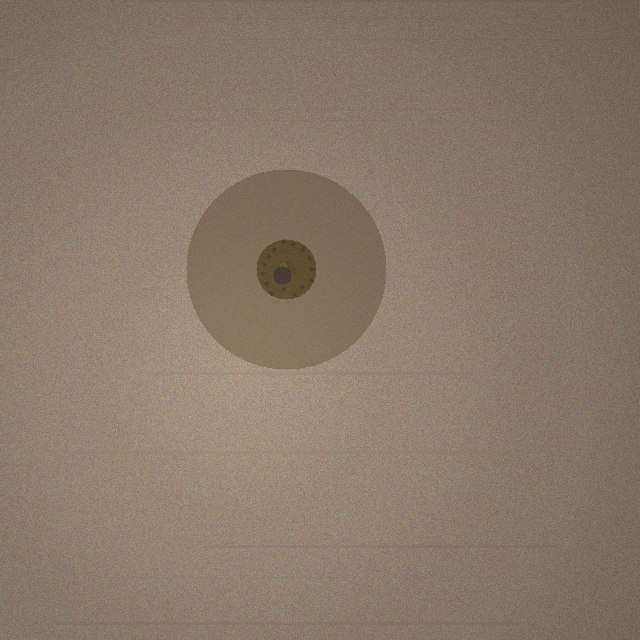cold_weld: (186, 169, 386, 369)
